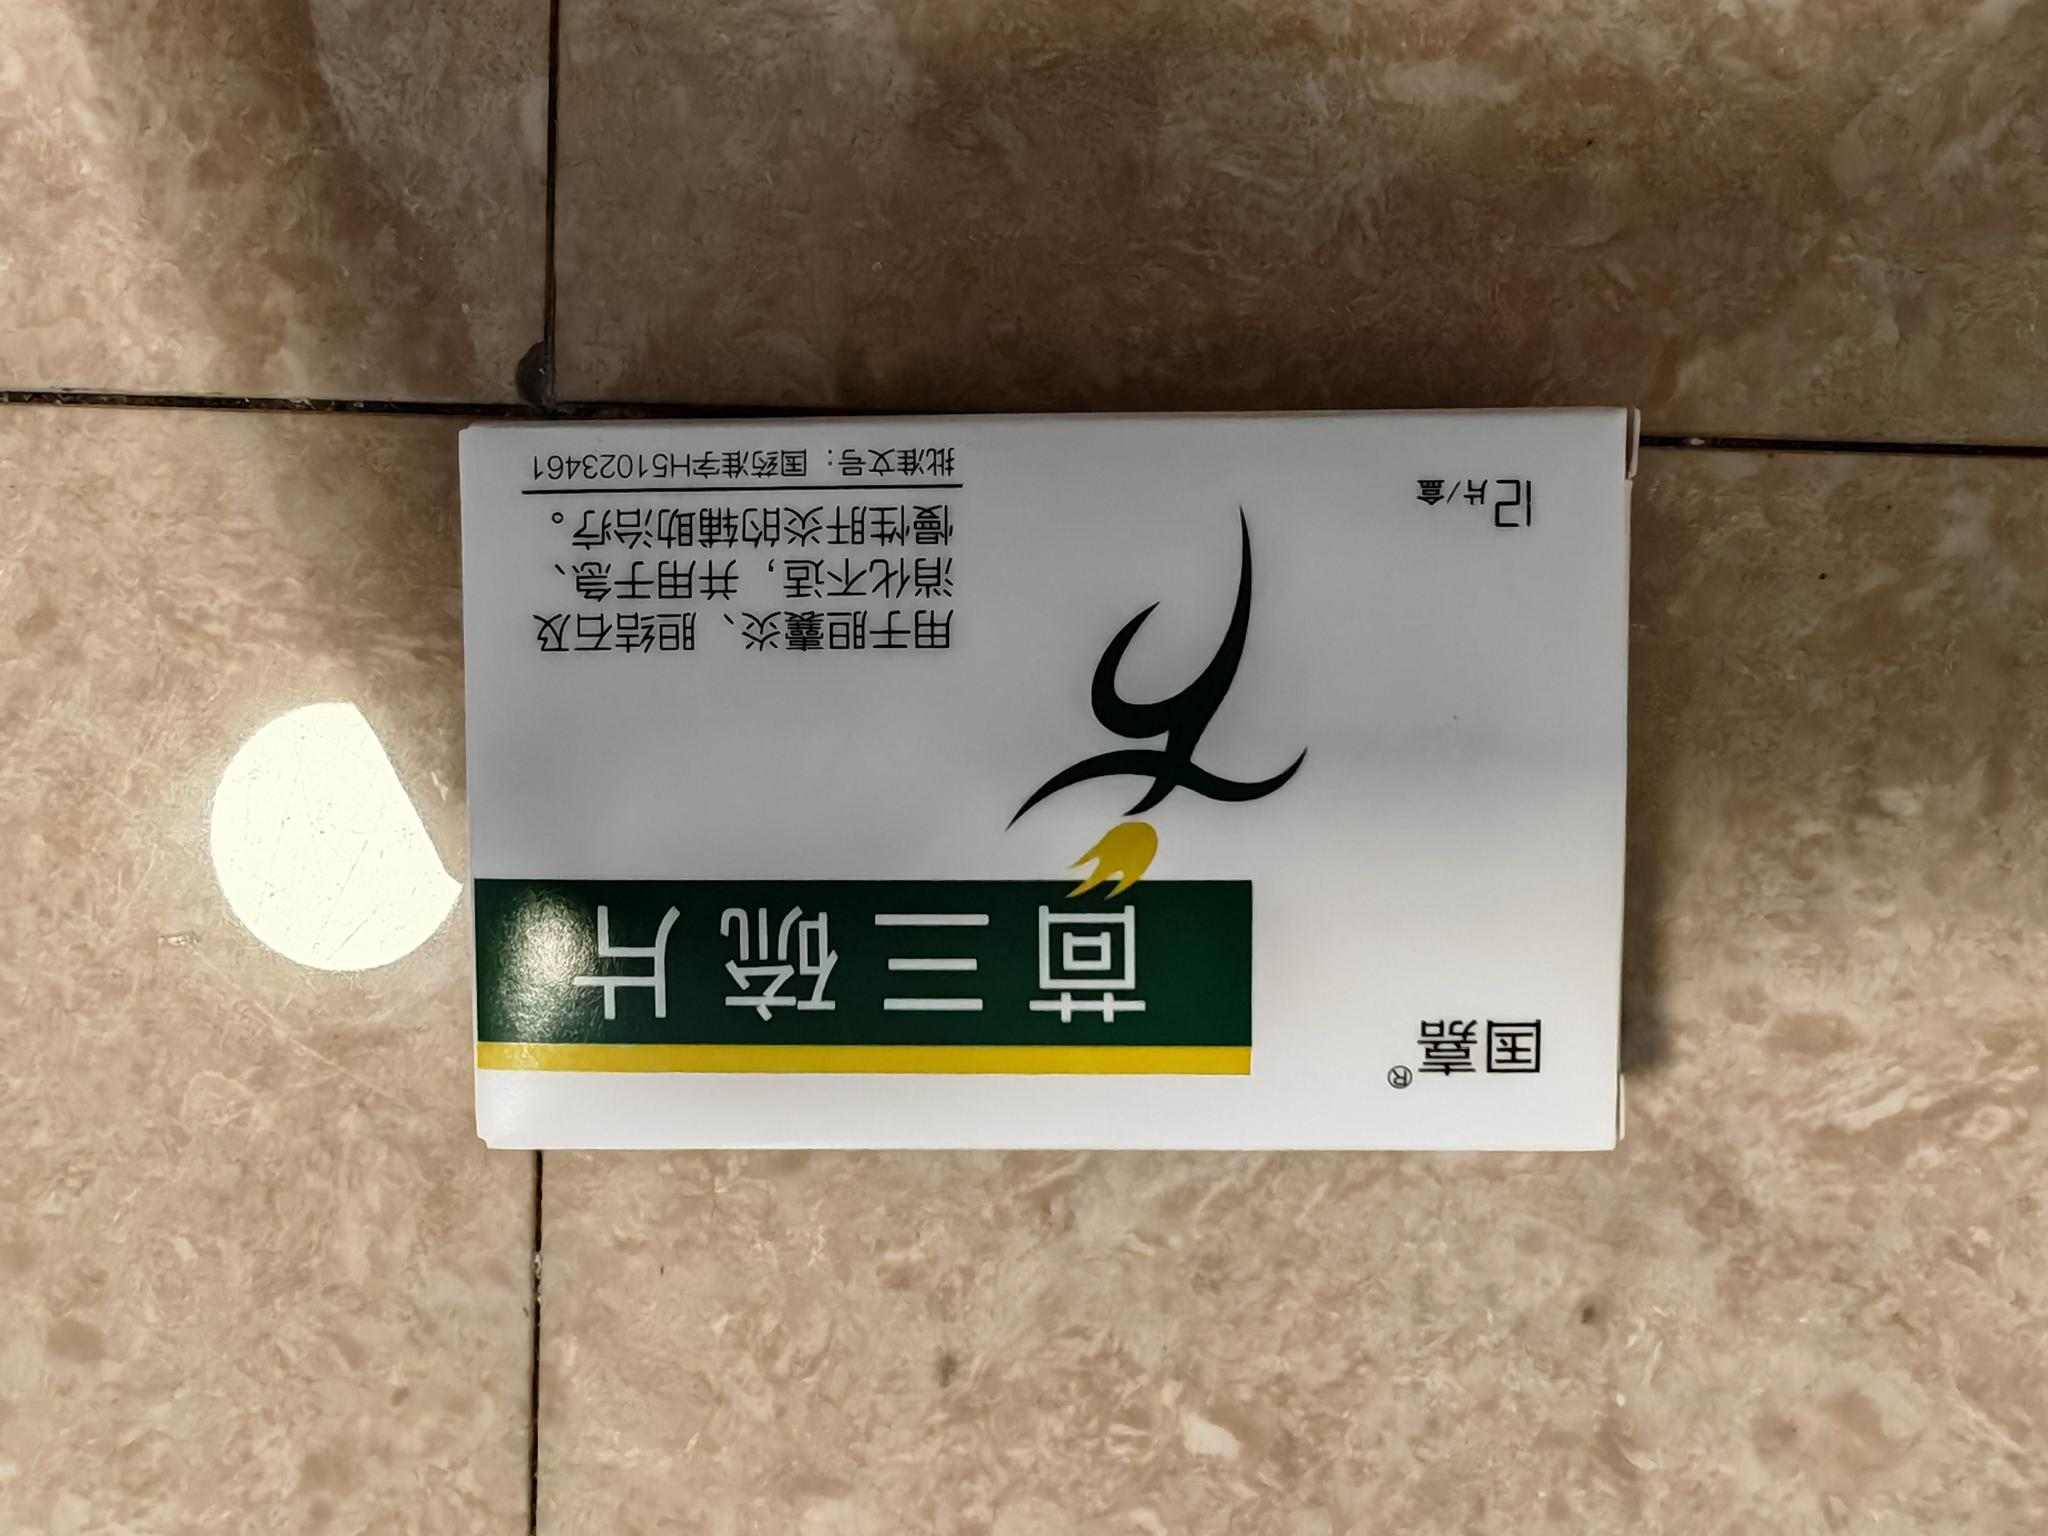Medicine4: (423, 379, 1664, 1184)
